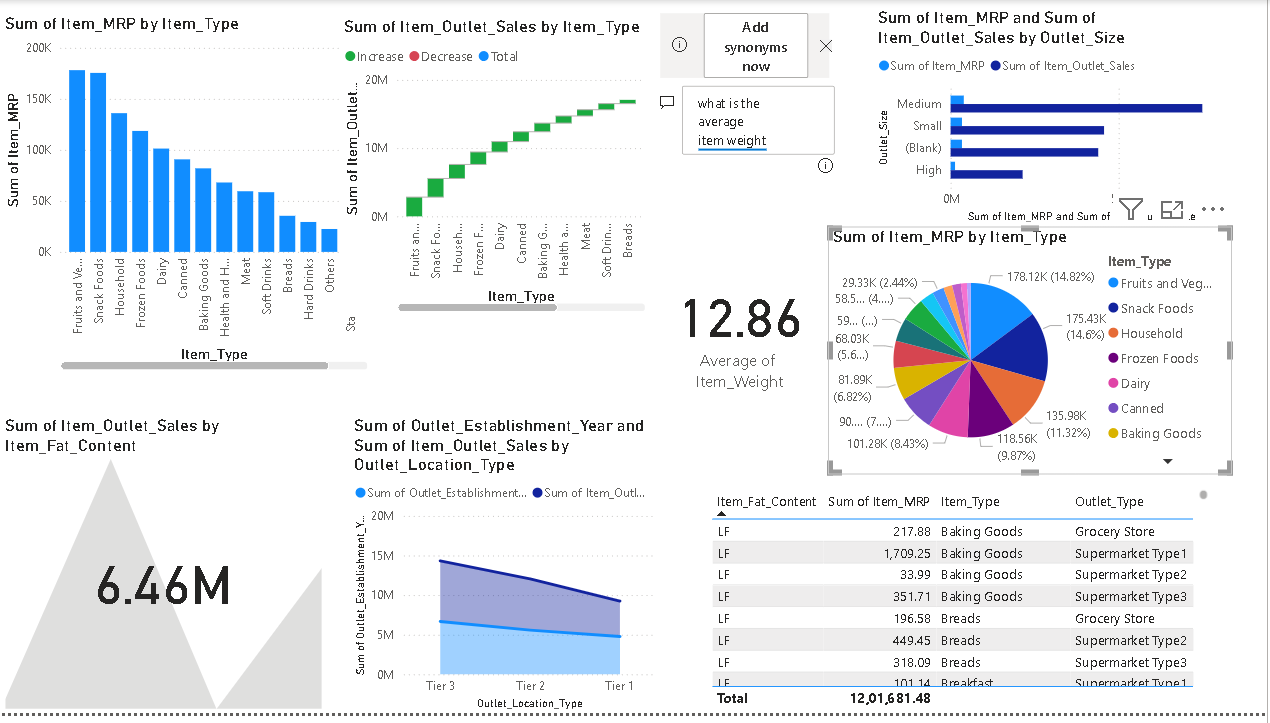

Layout of this report page (visuals, bound fields, positions):
{"tool":"powerbi","page":{"name":"Page 1","canvas":[1280,720],"ordinal":0},"visuals":[{"type":"clusteredColumnChart","fields":{"Y":["Sum(Train.Item_MRP)"],"Category":["Train.Item_Type"]},"box":[0,13,375.8,364.3],"z":0},{"type":"waterfallChart","fields":{"Category":["Train.Item_Type"],"Y":["Sum(Train.Item_Outlet_Sales)"]},"box":[342.7,17.3,313.9,302.4],"z":1000},{"type":"qnaVisual","box":[657.2,0,189.3,489.1],"z":2000},{"type":"pieChart","fields":{"Category":["Train.Item_Type"],"Y":["Sum(Train.Item_MRP)"]},"box":[835.8,228.6,407.3,249.8],"z":3000},{"type":"kpi","fields":{"TrendLine":["Train.Item_Fat_Content"],"Indicator":["Sum(Train.Item_Outlet_Sales)"]},"box":[0,419,329.8,301],"z":4000},{"type":"stackedAreaChart","fields":{"Y":["Sum(Train.Outlet_Establishment_Year)","Sum(Train.Item_Outlet_Sales)"],"Category":["Train.Outlet_Location_Type"]},"box":[352.8,419,313.9,301],"z":5000},{"type":"tableEx","fields":{"Values":["Train.Item_Fat_Content","Sum(Train.Item_MRP)","Train.Item_Type","Train.Outlet_Type"]},"box":[712.8,489.6,511.2,230.4],"z":6000},{"type":"clusteredBarChart","fields":{"Y":["Sum(Train.Item_MRP)","Sum(Train.Item_Outlet_Sales)"],"Category":["Train.Outlet_Size"]},"box":[881.3,7.6,363.4,221.1],"z":7000}]}

Visuals, with their boxes in screenshot pixels (x1, y1, x2, y2), scaled from the page's 1280x720 canvas onto the 1270x723 screenshot:
clusteredColumnChart - Sum(Train.Item_MRP) x Train.Item_Type: (left=0, top=13, right=373, bottom=379)
waterfallChart - Train.Item_Type x Sum(Train.Item_Outlet_Sales): (left=340, top=17, right=651, bottom=321)
qnaVisual: (left=652, top=0, right=840, bottom=491)
pieChart - Train.Item_Type x Sum(Train.Item_MRP): (left=829, top=230, right=1233, bottom=480)
kpi - Train.Item_Fat_Content x Sum(Train.Item_Outlet_Sales): (left=0, top=421, right=327, bottom=722)
stackedAreaChart - Sum(Train.Outlet_Establishment_Year) x Sum(Train.Item_Outlet_Sales): (left=350, top=421, right=661, bottom=722)
tableEx - Train.Item_Fat_Content x Sum(Train.Item_MRP): (left=707, top=492, right=1214, bottom=722)
clusteredBarChart - Sum(Train.Item_MRP) x Sum(Train.Item_Outlet_Sales): (left=874, top=8, right=1235, bottom=230)
